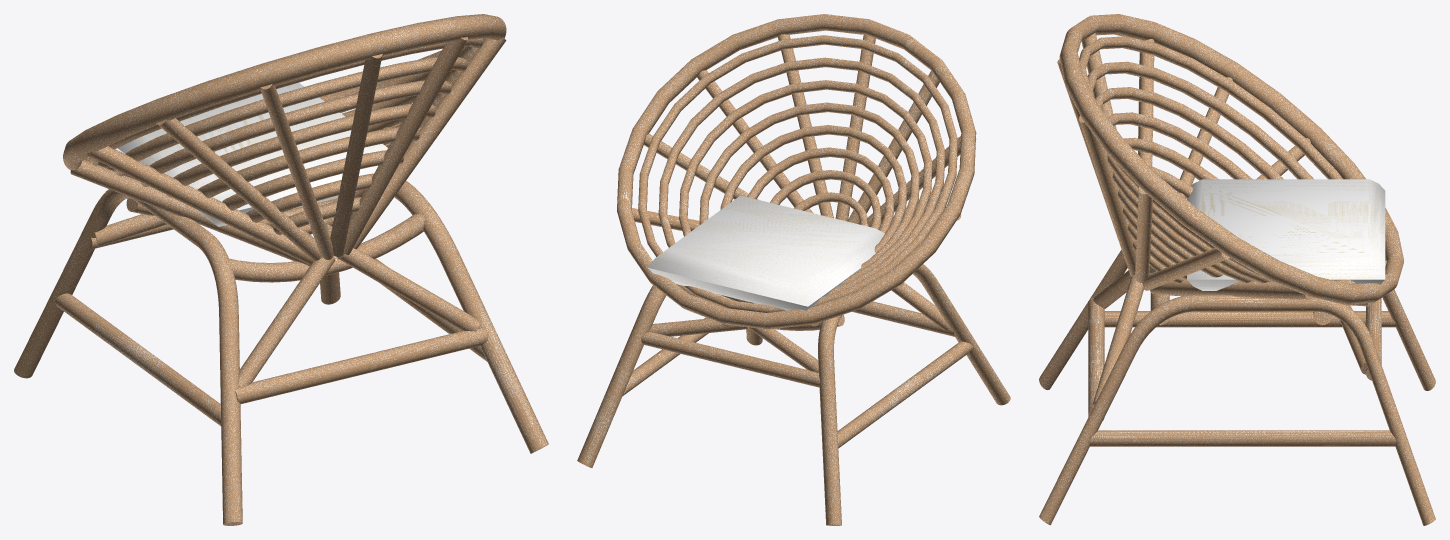
The picture shows the model from 3 angles, left to right: view 1: azimuth 30°, elevation 25°; view 2: azimuth 150°, elevation 25°; view 3: azimuth 270°, elevation 25°; orthographic projection. The views are drawn at different scales.
Parts seen in each view (by area): view 1: mesh22_mesh22-geometry, mesh26_mesh26-geometry, mesh25_mesh25-geometry, mesh23_mesh23-geometry, mesh3_mesh3-geometry, mesh7_mesh7-geometry, mesh8_mesh8-geometry, mesh1_mesh1-geometry, mesh11_mesh11-geometry, mesh6_mesh6-geometry, mesh12_mesh12-geometry, mesh13_mesh13-geometry (+2 smaller); view 2: mesh3_mesh3-geometry, mesh23_mesh23-geometry, mesh25_mesh25-geometry, mesh26_mesh26-geometry, mesh22_mesh22-geometry, mesh6_mesh6-geometry, mesh7_mesh7-geometry, mesh8_mesh8-geometry, mesh11_mesh11-geometry, mesh12_mesh12-geometry, mesh13_mesh13-geometry, mesh9_mesh9-geometry (+1 smaller); view 3: mesh23_mesh23-geometry, mesh3_mesh3-geometry, mesh25_mesh25-geometry, mesh26_mesh26-geometry, mesh22_mesh22-geometry, mesh6_mesh6-geometry, mesh8_mesh8-geometry, mesh7_mesh7-geometry, mesh11_mesh11-geometry, mesh12_mesh12-geometry, mesh13_mesh13-geometry.
Part boxes in pixels (left/top/right/bottom): mesh22_mesh22-geometry: left=70, top=37, right=506, bottom=266; mesh26_mesh26-geometry: left=14, top=181, right=548, bottom=525; mesh25_mesh25-geometry: left=55, top=214, right=487, bottom=426; mesh23_mesh23-geometry: left=63, top=14, right=506, bottom=170; mesh3_mesh3-geometry: left=115, top=82, right=387, bottom=226; mesh7_mesh7-geometry: left=114, top=57, right=467, bottom=178; mesh8_mesh8-geometry: left=140, top=80, right=451, bottom=186; mesh1_mesh1-geometry: left=225, top=214, right=424, bottom=282; mesh11_mesh11-geometry: left=167, top=103, right=435, bottom=197; mesh6_mesh6-geometry: left=89, top=38, right=483, bottom=168; mesh12_mesh12-geometry: left=197, top=127, right=419, bottom=198; mesh13_mesh13-geometry: left=222, top=150, right=403, bottom=210; mesh3_mesh3-geometry: left=647, top=195, right=884, bottom=310; mesh23_mesh23-geometry: left=617, top=14, right=976, bottom=329; mesh25_mesh25-geometry: left=622, top=282, right=972, bottom=448; mesh26_mesh26-geometry: left=577, top=264, right=1010, bottom=525; mesh22_mesh22-geometry: left=631, top=34, right=976, bottom=326; mesh6_mesh6-geometry: left=638, top=35, right=957, bottom=312; mesh7_mesh7-geometry: left=658, top=57, right=945, bottom=303; mesh8_mesh8-geometry: left=679, top=80, right=932, bottom=285; mesh11_mesh11-geometry: left=699, top=102, right=919, bottom=271; mesh12_mesh12-geometry: left=720, top=125, right=906, bottom=252; mesh13_mesh13-geometry: left=747, top=147, right=894, bottom=233; mesh9_mesh9-geometry: left=770, top=170, right=881, bottom=229; mesh23_mesh23-geometry: left=1059, top=14, right=1403, bottom=304; mesh3_mesh3-geometry: left=1187, top=179, right=1385, bottom=290; mesh25_mesh25-geometry: left=1088, top=270, right=1396, bottom=446; mesh26_mesh26-geometry: left=1039, top=250, right=1435, bottom=525; mesh22_mesh22-geometry: left=1057, top=33, right=1387, bottom=306; mesh6_mesh6-geometry: left=1079, top=36, right=1355, bottom=284; mesh8_mesh8-geometry: left=1095, top=87, right=1283, bottom=283; mesh7_mesh7-geometry: left=1087, top=61, right=1313, bottom=276; mesh11_mesh11-geometry: left=1108, top=112, right=1254, bottom=283; mesh12_mesh12-geometry: left=1117, top=137, right=1223, bottom=277; mesh13_mesh13-geometry: left=1122, top=166, right=1193, bottom=264.
Bounding box in the file's own units: 0.5795 × 0.6136 × 0.5365.
